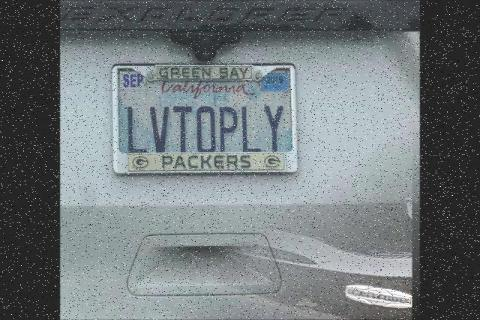LicensePlate: (113, 61, 298, 176)
